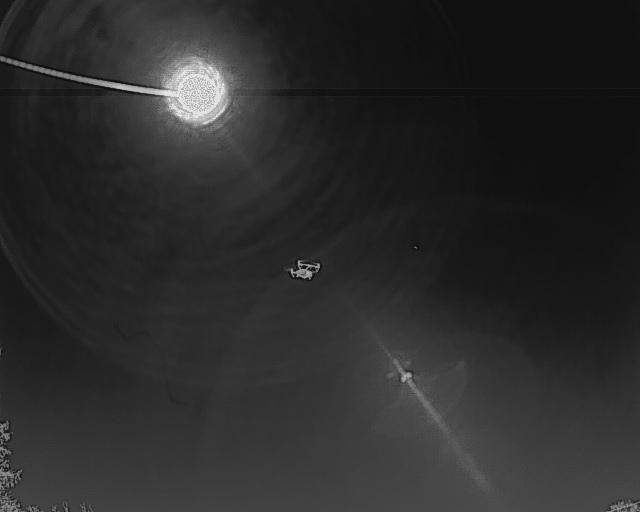drone: (282, 253, 327, 290)
